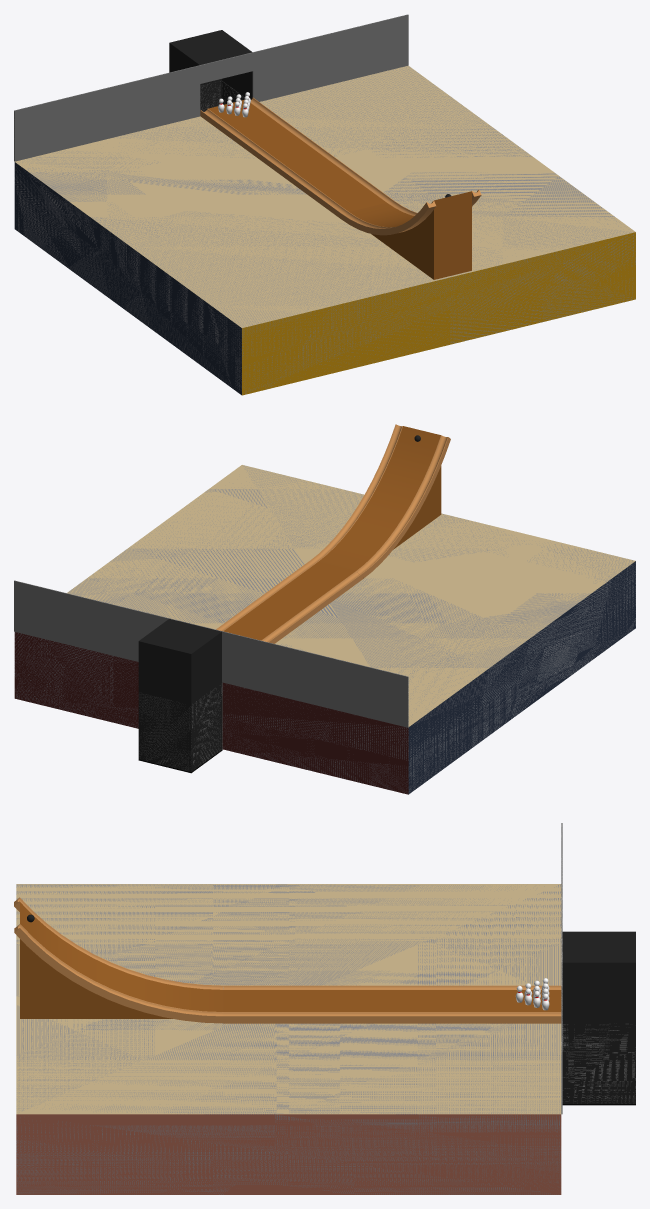
The model's file is Bowling.dae.
The picture shows the model from 3 angles, top to bottom: view 1: azimuth 30°, elevation 25°; view 2: azimuth 150°, elevation 25°; view 3: azimuth 270°, elevation 25°; orthographic projection. The views are drawn at different scales.
Visible parts, largest first — view 1: floor (×3), staticmesh (×6), group_0, group_2; view 2: floor (×3), staticmesh (×8), group_2, group_0, group_1; view 3: floor (×2), staticmesh (×6), group_0, group_4.
Part boxes in pixels (<box>): floor (×3): <box>14,65,635,395</box>; staticmesh (×6): <box>14,15,471,279</box>; group_0: <box>208,99,386,211</box>; group_2: <box>200,80,221,111</box>; floor (×3): <box>14,465,635,794</box>; staticmesh (×8): <box>14,424,450,727</box>; group_2: <box>138,692,191,771</box>; group_0: <box>223,562,355,640</box>; group_1: <box>191,682,222,771</box>; floor (×2): <box>16,884,561,1194</box>; staticmesh (×6): <box>14,897,635,1023</box>; group_0: <box>223,990,561,1011</box>; group_4: <box>562,1023,634,1103</box>.
Size of the model in its own units: 1000 by 1142 by 359.
